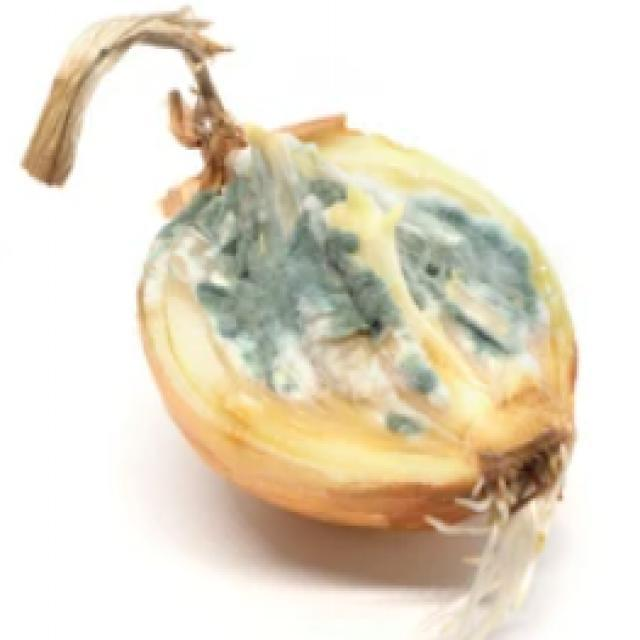rotten: (188, 163, 428, 360)
